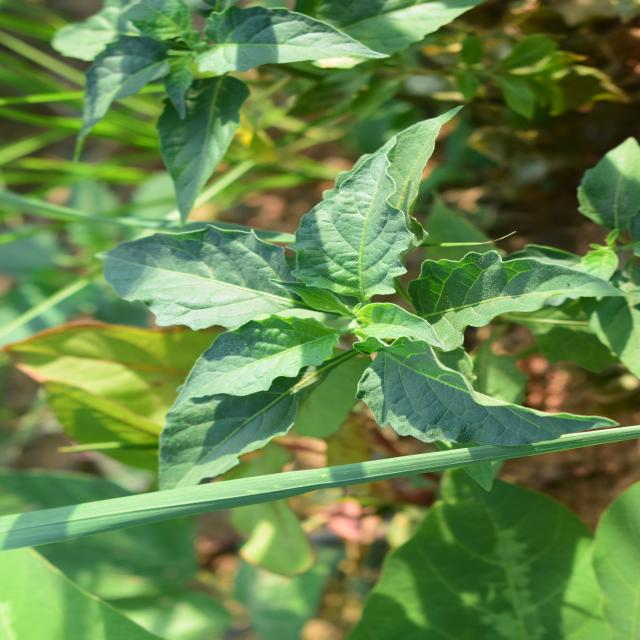Black_nightshade: (180, 112, 502, 572)
